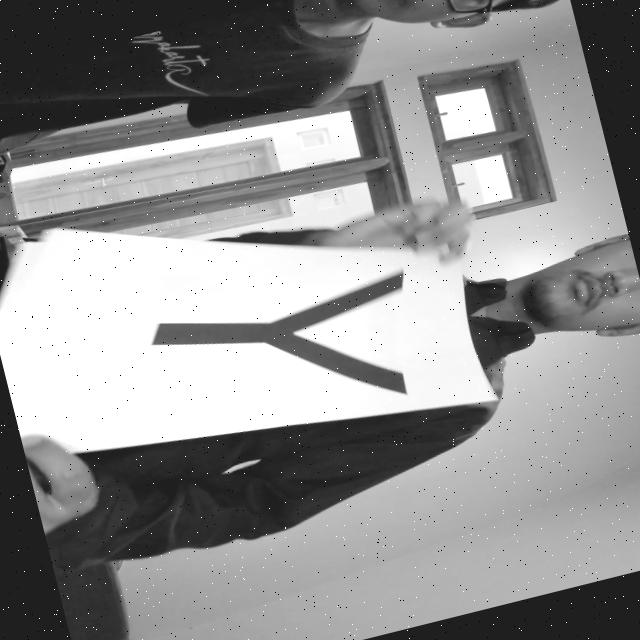y: (126, 251, 450, 461)
